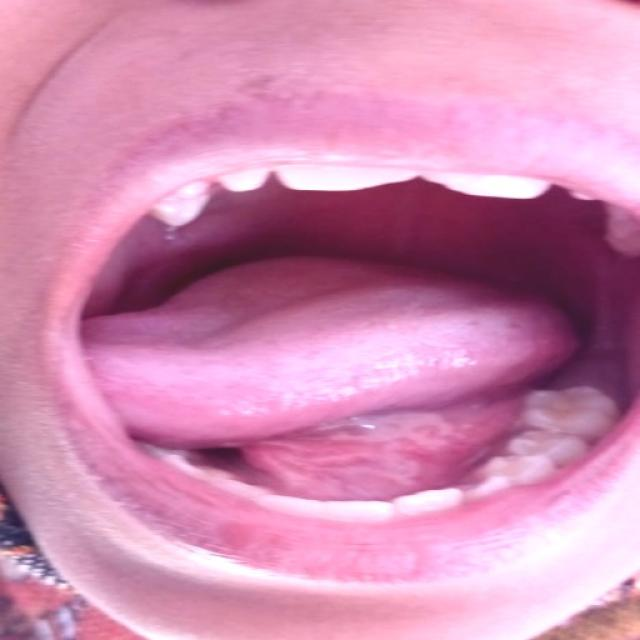processing_area: (86, 175, 636, 500)
